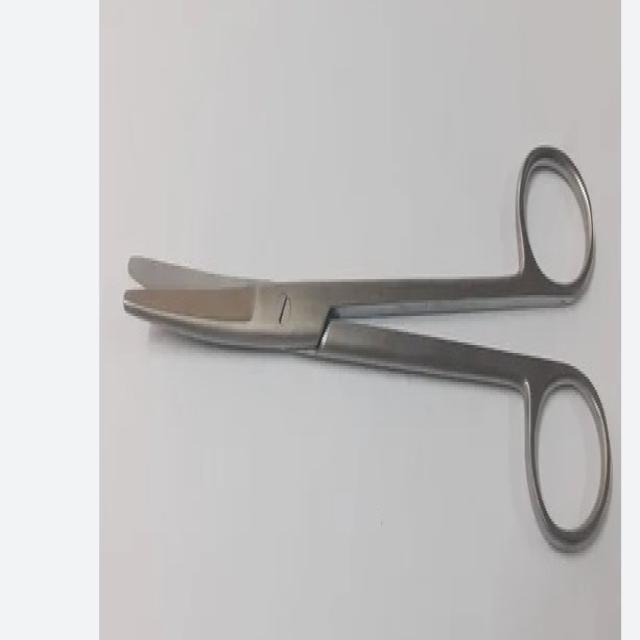Curved Mayo: (123, 132, 614, 570)
